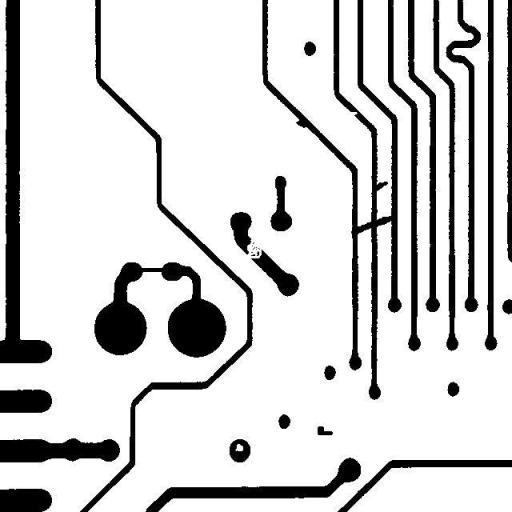copper: (310, 418, 340, 442)
mousebite: (341, 104, 365, 123)
open: (237, 229, 271, 266)
pin-hole: (228, 436, 250, 458)
short: (359, 206, 404, 234), (343, 214, 381, 242), (132, 260, 170, 279)
spur: (288, 110, 315, 136), (366, 174, 395, 198)
